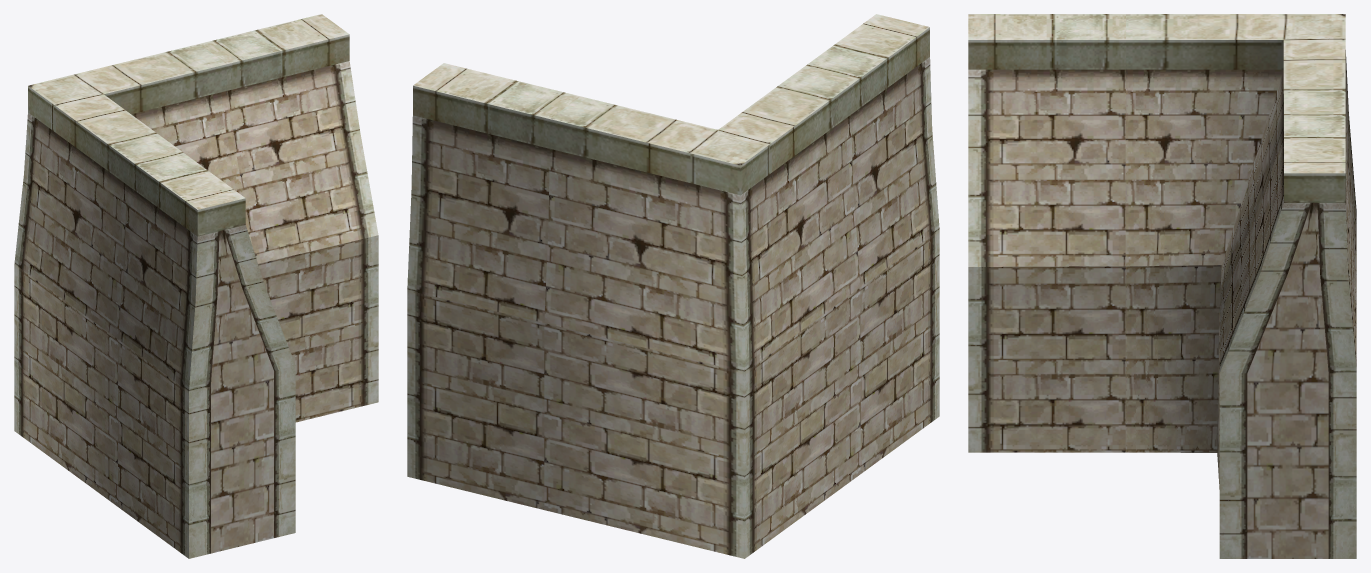
3 views of the same model, side by side, from view 1: azimuth 30°, elevation 25°; view 2: azimuth 150°, elevation 25°; view 3: azimuth 270°, elevation 25° (orthographic). The views are drawn at different scales.
Visible parts, largest first — view 1: geom_node_0; view 2: geom_node_0; view 3: geom_node_0.
Boxes of the visible parts, x1,y1,x2,y2 form: geom_node_0: [14, 14, 378, 558]; geom_node_0: [407, 14, 939, 558]; geom_node_0: [968, 14, 1356, 558].
Bounding box in the file's own units: 4.62 × 5.07 × 4.62.
1 material, 1 textured.
